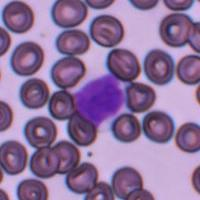M: (74, 72, 125, 129)
